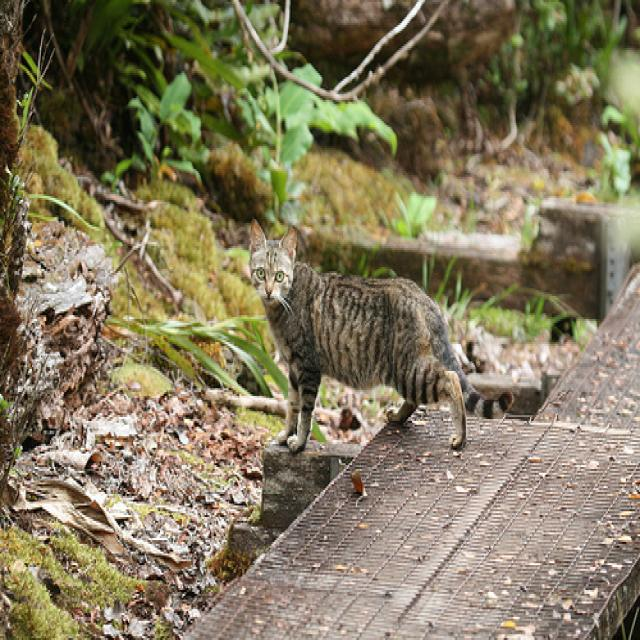cat: (251, 221, 512, 451)
